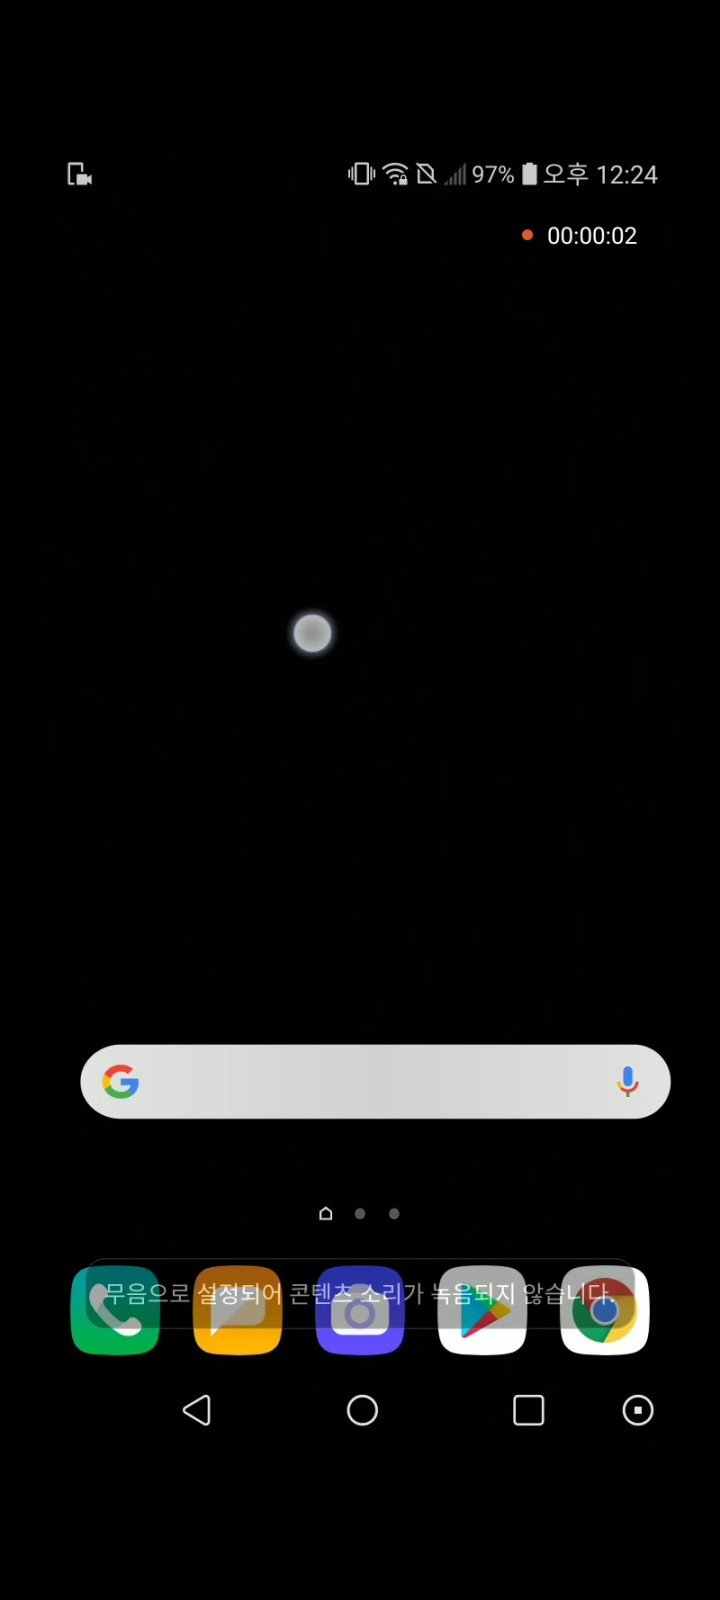Cursor: (290, 611, 335, 656)
